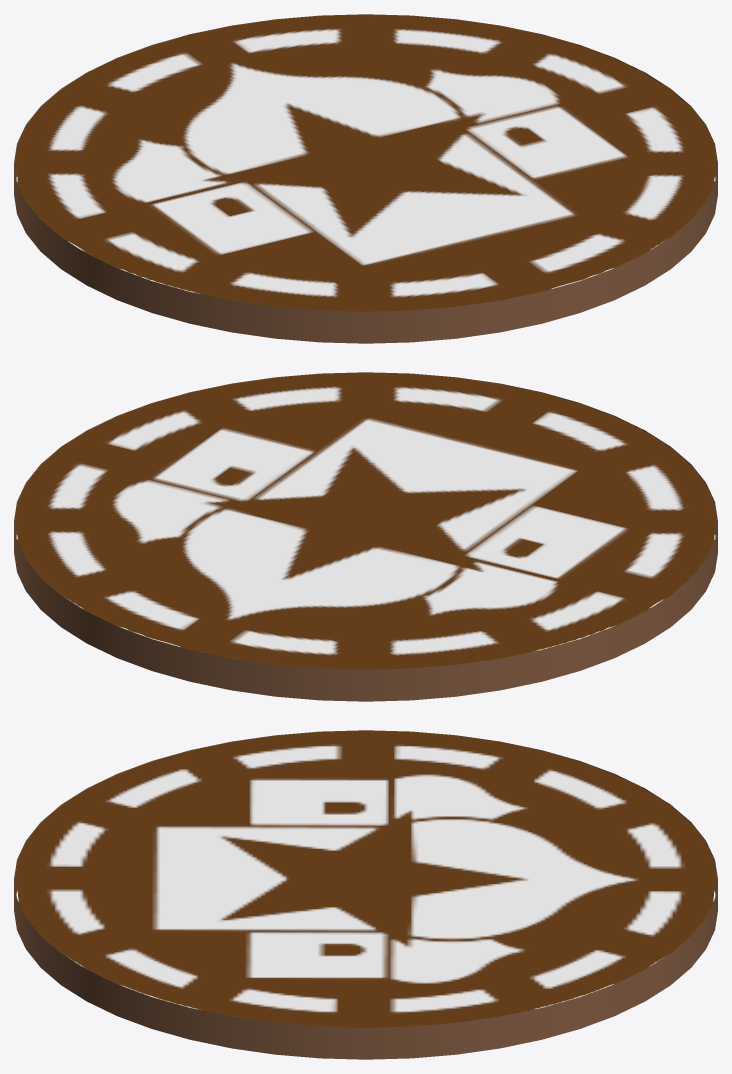
The model's file is Commonwealth.obj.
The picture shows the model from 3 angles, top to bottom: view 1: azimuth 30°, elevation 25°; view 2: azimuth 150°, elevation 25°; view 3: azimuth 270°, elevation 25°; orthographic projection.
Visible parts, largest first — view 1: Mesh1 Model; view 2: Mesh1 Model; view 3: Mesh1 Model.
Part boxes in pixels (<box>): Mesh1 Model: <box>14,14,717,343</box>; Mesh1 Model: <box>14,372,717,701</box>; Mesh1 Model: <box>14,730,717,1059</box>.
Size of the model in its own units: 200 by 10 by 200.
Materials: 2 (1 with a texture image).
